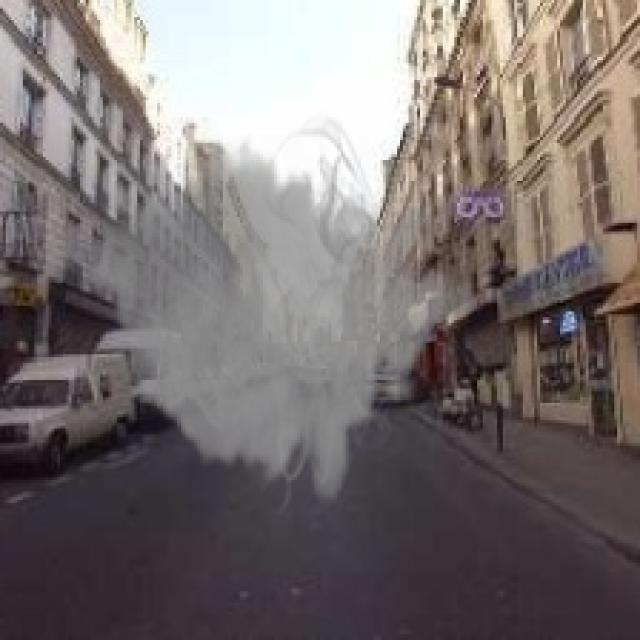Smoke: (86, 108, 477, 520)
